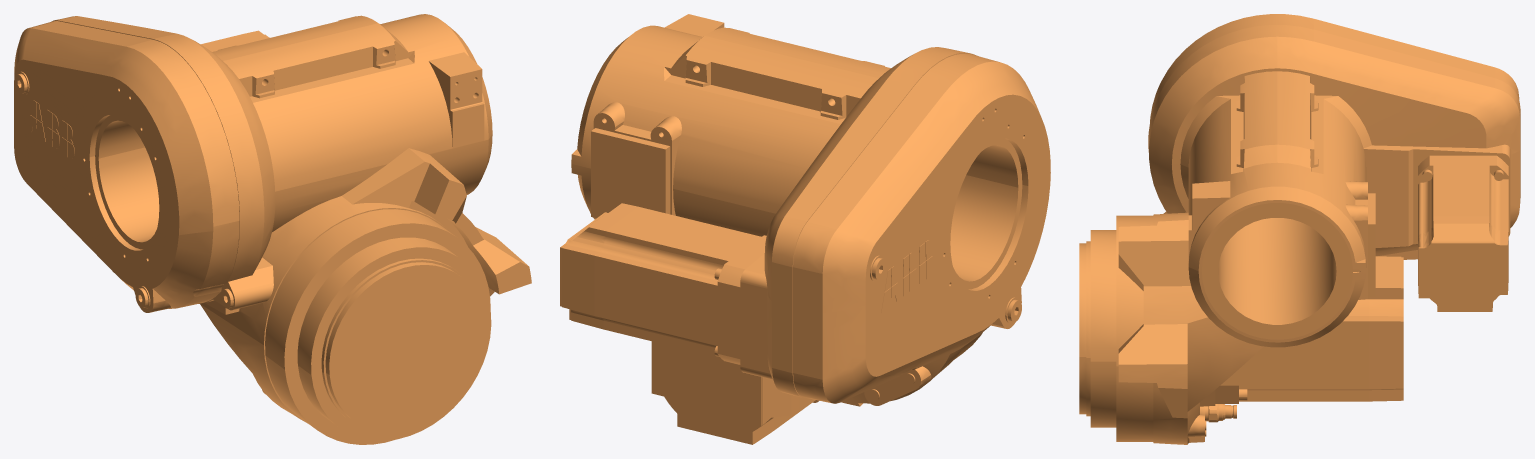
3 views of the same model, side by side, from view 1: azimuth 30°, elevation 25°; view 2: azimuth 150°, elevation 25°; view 3: azimuth 270°, elevation 25° (orthographic). The views are drawn at different scales.
Parts seen in each view (by area): view 1: mesh_0; view 2: mesh_0; view 3: mesh_0.
Boxes of the visible parts, x1,y1,x2,y2 form: mesh_0: (14,14,531,444); mesh_0: (560,14,1050,444); mesh_0: (1079,14,1520,444).
Size of the model in its own units: 0.5223 by 0.5566 by 0.6329.
